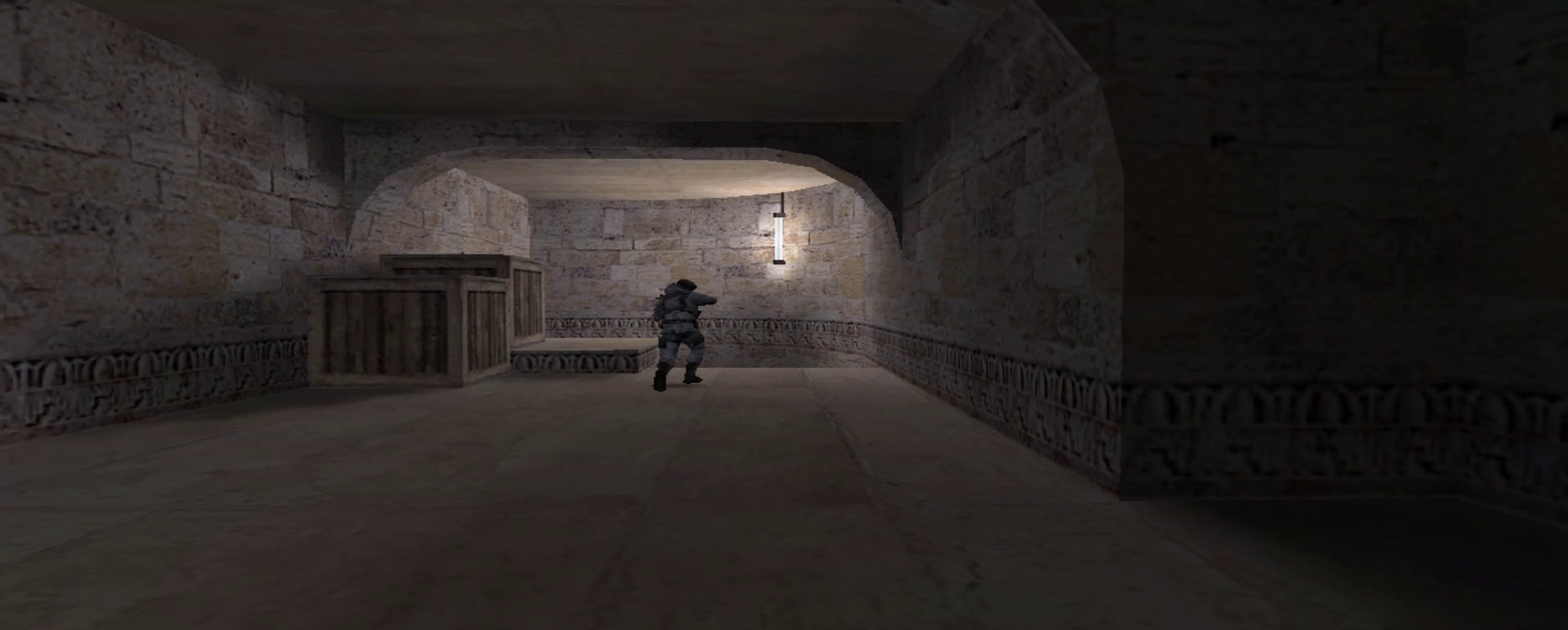ter: (656, 289, 709, 388)
ter_head: (678, 279, 696, 291)
